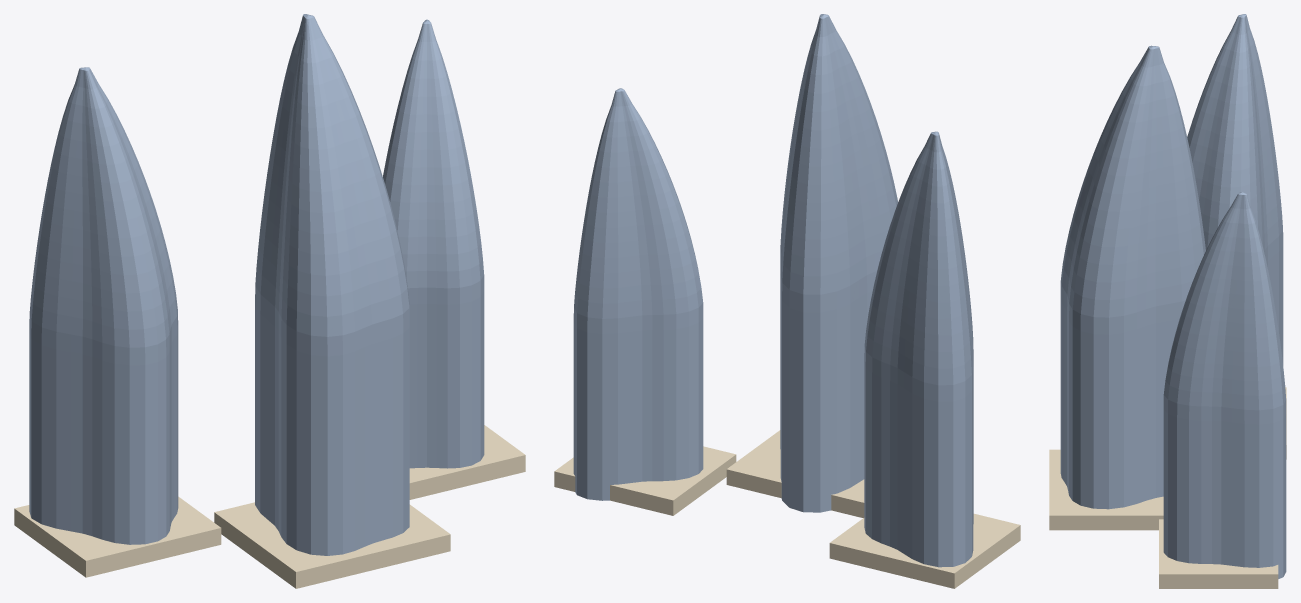
Rendered from flame_towers.glb.
3 views of the same model, side by side, from view 1: azimuth 30°, elevation 25°; view 2: azimuth 150°, elevation 25°; view 3: azimuth 270°, elevation 25° (orthographic). The views are drawn at different scales.
Parts seen in each view (by area): view 1: flame_1, flame_2, flame_3; view 2: flame_3, flame_1, flame_2; view 3: flame_1, flame_3, flame_2.
Part boxes in pixels (box(x1,y1,x2,y2)): flame_1: box(214, 14, 450, 588); flame_2: box(14, 67, 221, 577); flame_3: box(383, 19, 525, 499); flame_3: box(554, 88, 736, 515); flame_1: box(726, 14, 898, 517); flame_2: box(829, 131, 1020, 588); flame_1: box(1049, 45, 1205, 530); flame_3: box(1159, 192, 1286, 588); flame_2: box(1187, 14, 1286, 459).
Bounding box in the file's own units: 163 × 182 × 87.5.
